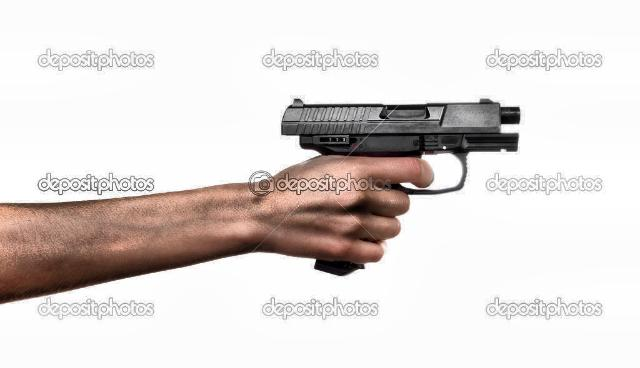pistol: (274, 89, 532, 280)
